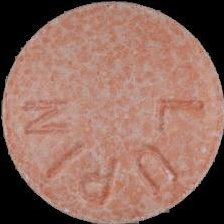63187-257: (0, 0, 224, 224)
